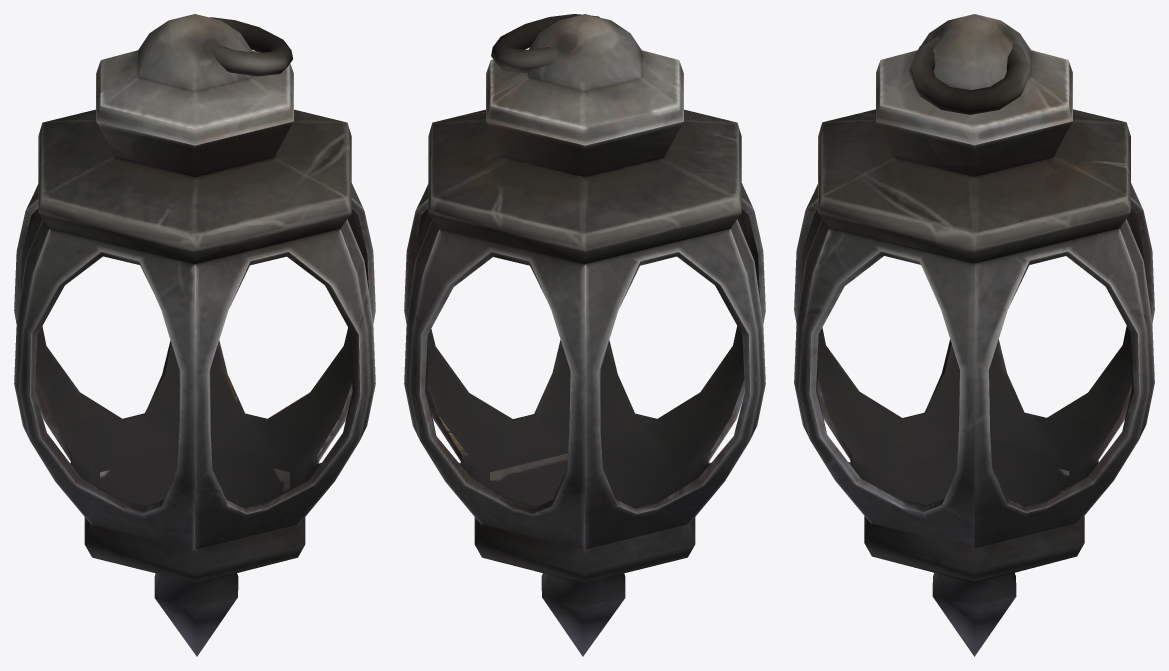
File: DE_Lamp_06.fbx
3 renders of one model, left to right at view 1: azimuth 30°, elevation 25°; view 2: azimuth 150°, elevation 25°; view 3: azimuth 270°, elevation 25°, orthographic.
Visible parts, largest first — view 1: DE_Lamp_06; view 2: DE_Lamp_06; view 3: DE_Lamp_06.
Part boxes in pixels (bbox=[...]): DE_Lamp_06: bbox=[14, 14, 375, 656]; DE_Lamp_06: bbox=[404, 14, 765, 656]; DE_Lamp_06: bbox=[794, 14, 1154, 656].
Size of the model in its own units: 0.9179 by 1.61 by 0.8213.
